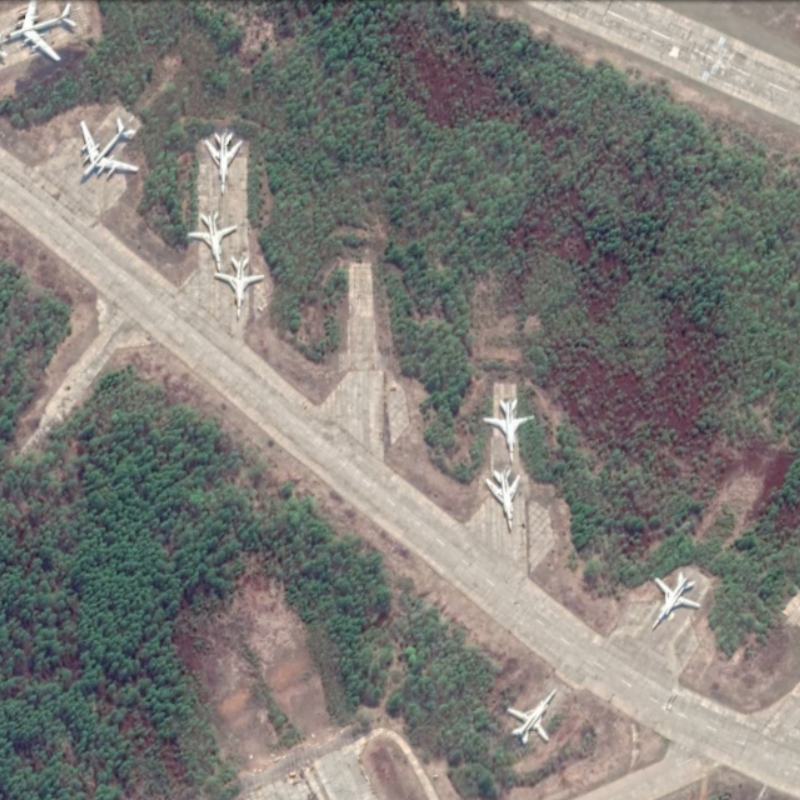A12: (479, 390, 539, 468), (209, 253, 270, 324), (643, 565, 704, 633), (503, 684, 567, 746), (183, 206, 241, 272), (481, 465, 530, 537), (200, 127, 245, 198)
A17: (71, 110, 146, 185), (1, 1, 80, 68)
